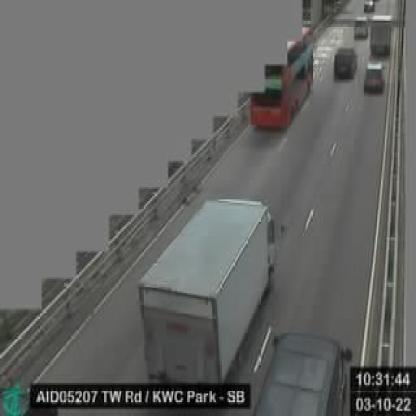Bus: (252, 26, 312, 127)
Car: (369, 14, 390, 54), (362, 64, 384, 94), (334, 49, 356, 78), (354, 16, 366, 38)
Truck: (135, 194, 272, 383), (135, 284, 142, 288)
